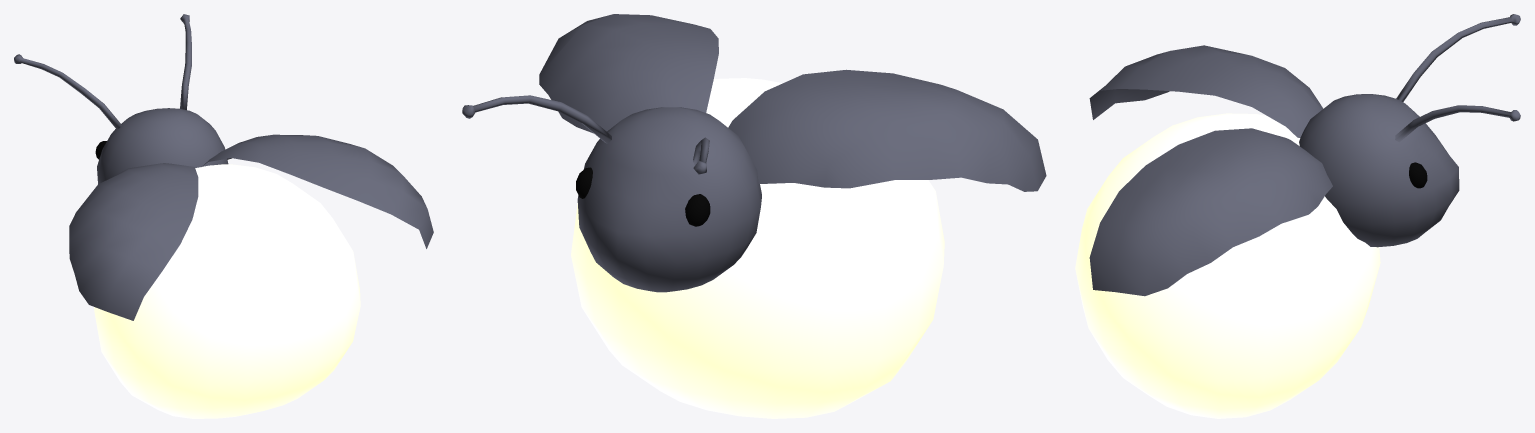
The model's file is firefly.fbx.
3 views of the same model, side by side, from view 1: azimuth 30°, elevation 25°; view 2: azimuth 150°, elevation 25°; view 3: azimuth 270°, elevation 25° (orthographic). The views are drawn at different scales.
Visible parts, largest first — view 1: Sphere, Sphere.002, Sphere.001, Cylinder; view 2: Sphere, Sphere.002, Sphere.001, Cylinder, Icosphere; view 3: Sphere, Sphere.002, Sphere.001, Cylinder.
Part boxes in pixels (x1,y1,x2,y2): Sphere: [94, 164, 360, 418]; Sphere.002: [69, 134, 433, 320]; Sphere.001: [97, 108, 228, 183]; Cylinder: [14, 14, 191, 129]; Sphere: [571, 78, 944, 418]; Sphere.002: [539, 14, 1046, 191]; Sphere.001: [577, 107, 761, 292]; Cylinder: [462, 95, 709, 174]; Icosphere: [576, 167, 710, 226]; Sphere: [1075, 113, 1380, 418]; Sphere.002: [1089, 45, 1332, 296]; Sphere.001: [1299, 94, 1459, 247]; Cylinder: [1395, 14, 1520, 142].
Size of the model in its own units: 288 by 229 by 277.
